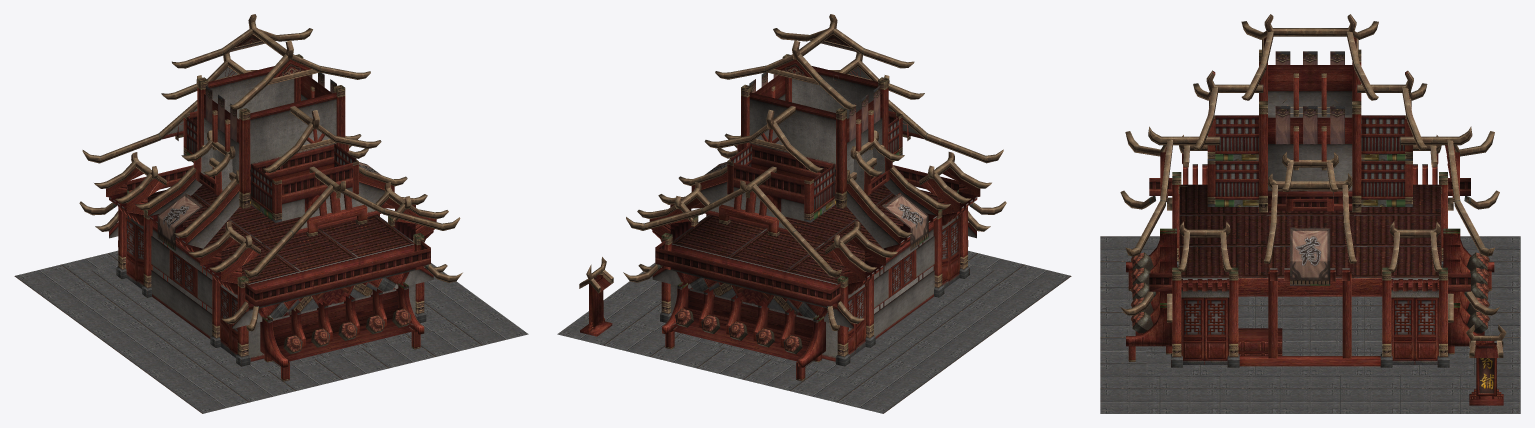
Rendered from Yland1_fz_10 Yland2.FBX.
3 renders of one model, left to right at view 1: azimuth 30°, elevation 25°; view 2: azimuth 150°, elevation 25°; view 3: azimuth 270°, elevation 25°, orthographic. The views are drawn at different scales.
Parts seen in each view (by area): view 1: Yland1_fz_10 Yland2; view 2: Yland1_fz_10 Yland2; view 3: Yland1_fz_10 Yland2.
Part boxes in pixels (left/top/right/bottom): Yland1_fz_10 Yland2: left=14, top=14, right=528, bottom=413; Yland1_fz_10 Yland2: left=557, top=14, right=1071, bottom=413; Yland1_fz_10 Yland2: left=1100, top=14, right=1520, bottom=413.
Size of the model in its own units: 21.91 by 18.05 by 21.91.
